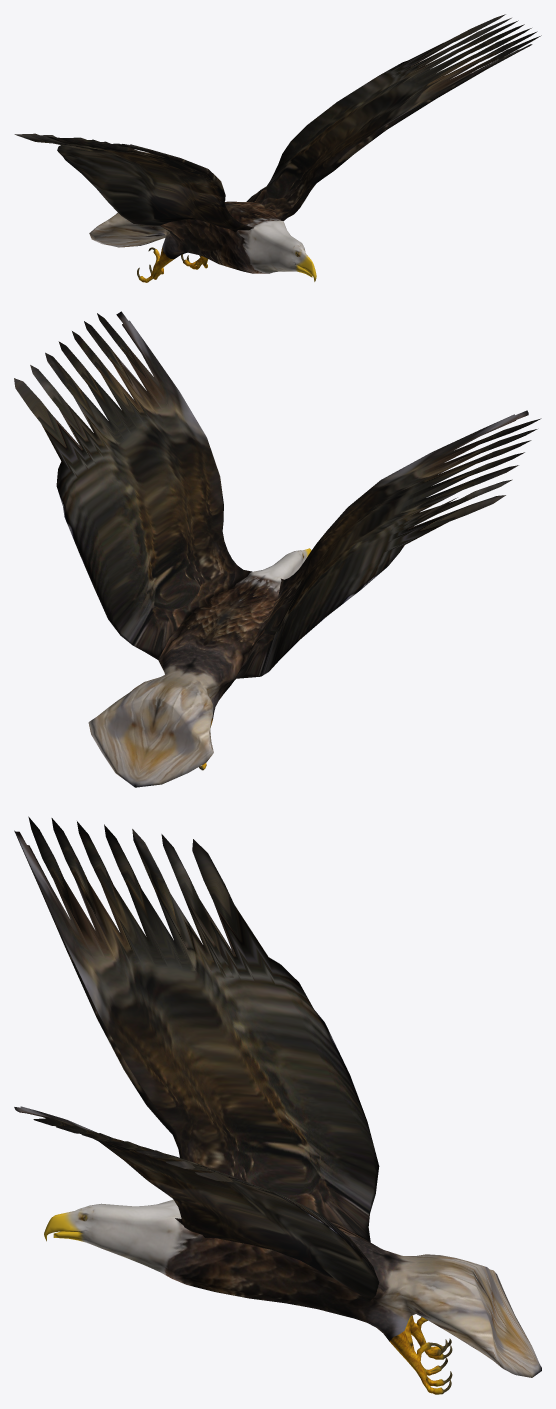
File: Eagle-original_000001.obj
3 views of the same model, one above another, from view 1: azimuth 30°, elevation 25°; view 2: azimuth 150°, elevation 25°; view 3: azimuth 270°, elevation 25° (orthographic). The views are drawn at different scales.
Parts seen in each view (by area): view 1: Flugel_Plane.003; view 2: Flugel_Plane.003; view 3: Flugel_Plane.003.
Part boxes in pixels (box(x1,y1,x2,y2)): Flugel_Plane.003: box(14, 14, 541, 282); Flugel_Plane.003: box(14, 311, 541, 787); Flugel_Plane.003: box(14, 816, 541, 1394).
Size of the model in its own units: 9.22 by 5.22 by 6.16.
Materials: 1 (1 with a texture image).
